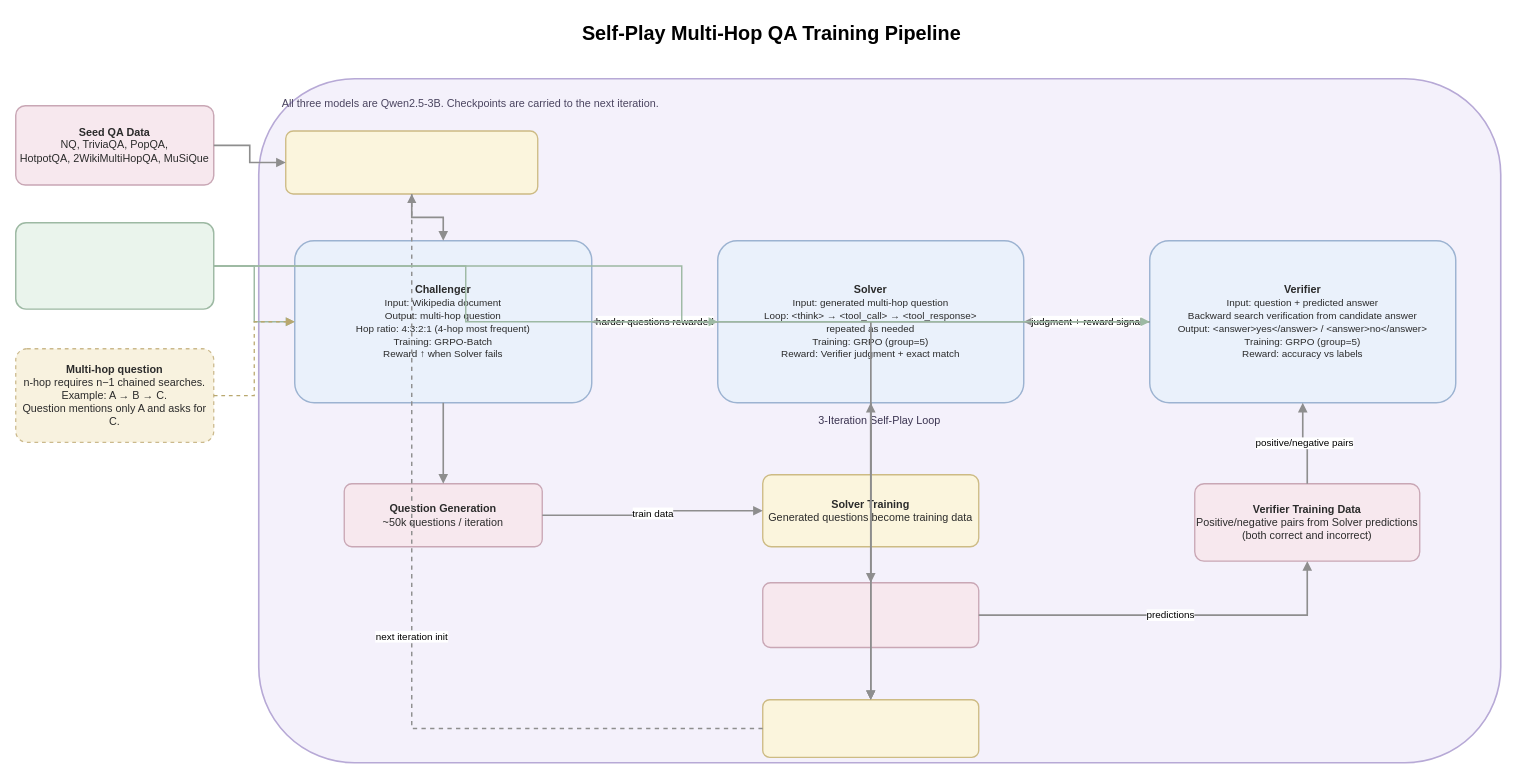
The diagram is 1517 pixels wide and 779 high, and some of its shapes have lost their labels. Here are the shapes that lost their labels. From the top down, the box of each, then its label:
(285, 130, 538, 194): Initialize from previous iteration Challenger / Solver / Verifier checkpoints
(15, 222, 214, 309): Shared Wikipedia Retrieval FAISS index E5-base-v2 top-3 passages
(762, 582, 979, 648): Solver Inference Sampled subset: 12,800 questions
(762, 699, 979, 758): Carry checkpoints to next iteration
